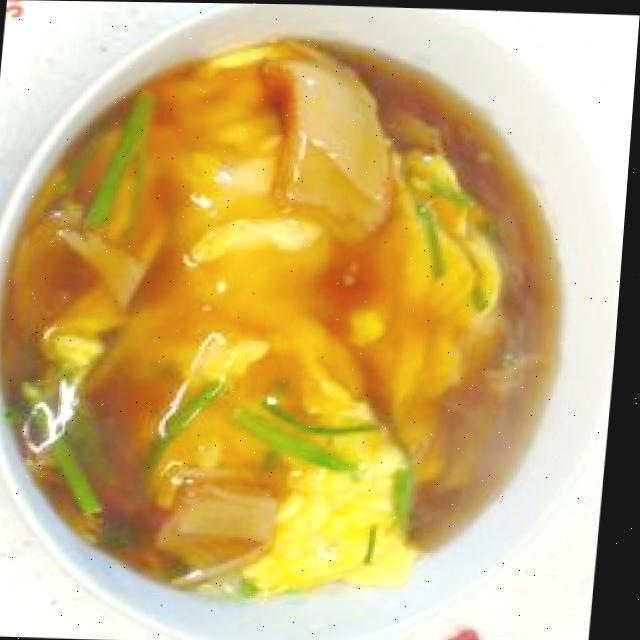面条主食: (0, 19, 606, 622)
